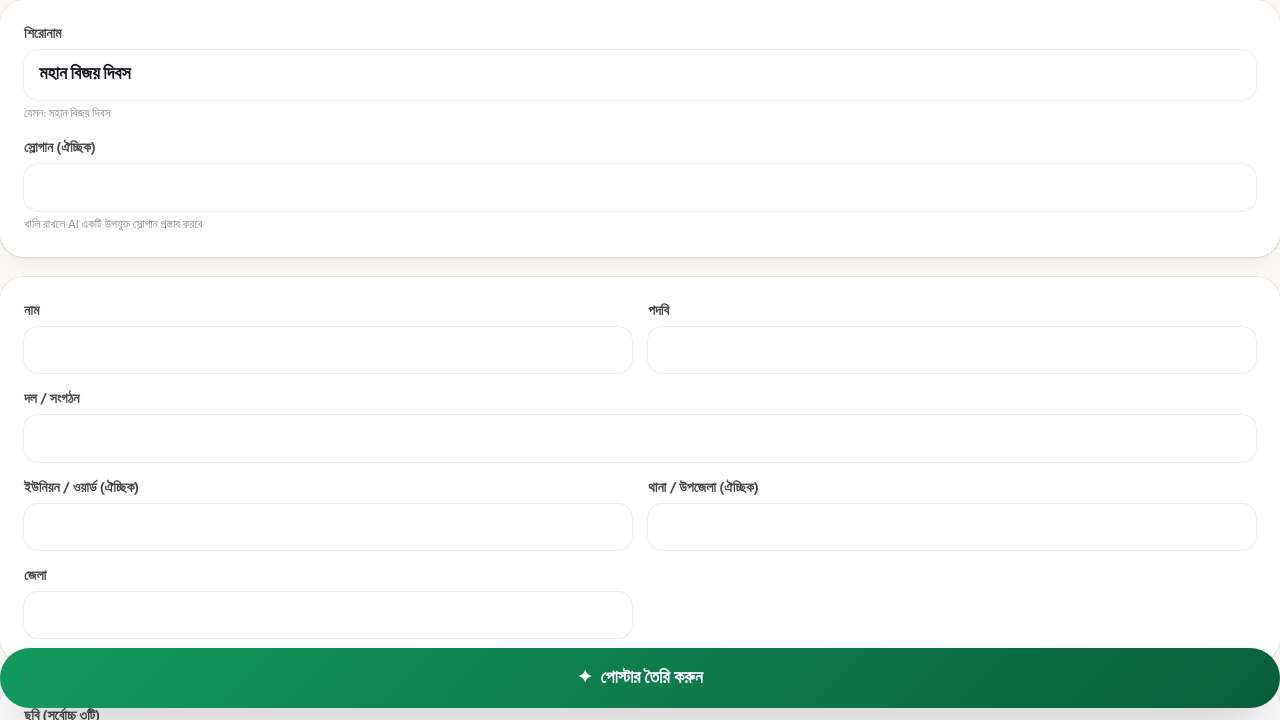
Test: PosterForm › shows field errors in Bangla
What coordinates should you click on to do the following:
click the button "✦ পোস্টার তৈরি করুন"
I would click on:
 (640, 678)
Its box is [0,648,1279,708].
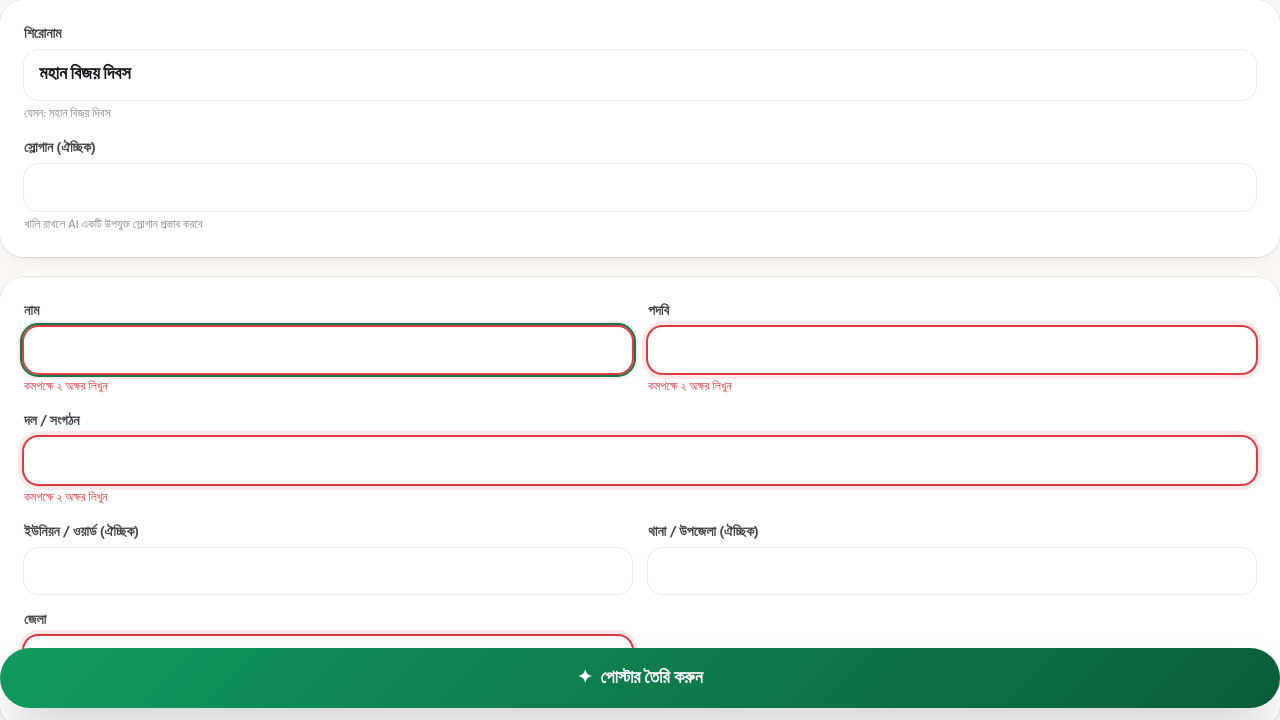
Now the 1st text "কমপক্ষে ২ অক্ষর লিখুন" is shown, box [24,377,108,396]
